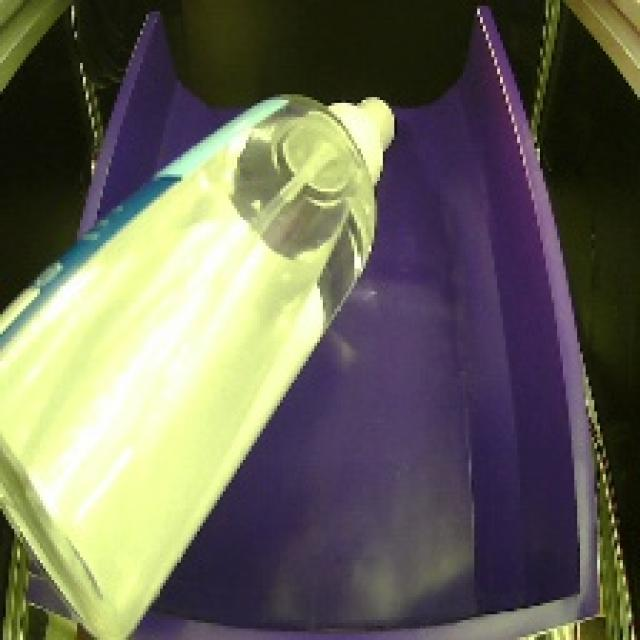plastic: (0, 64, 435, 640)
